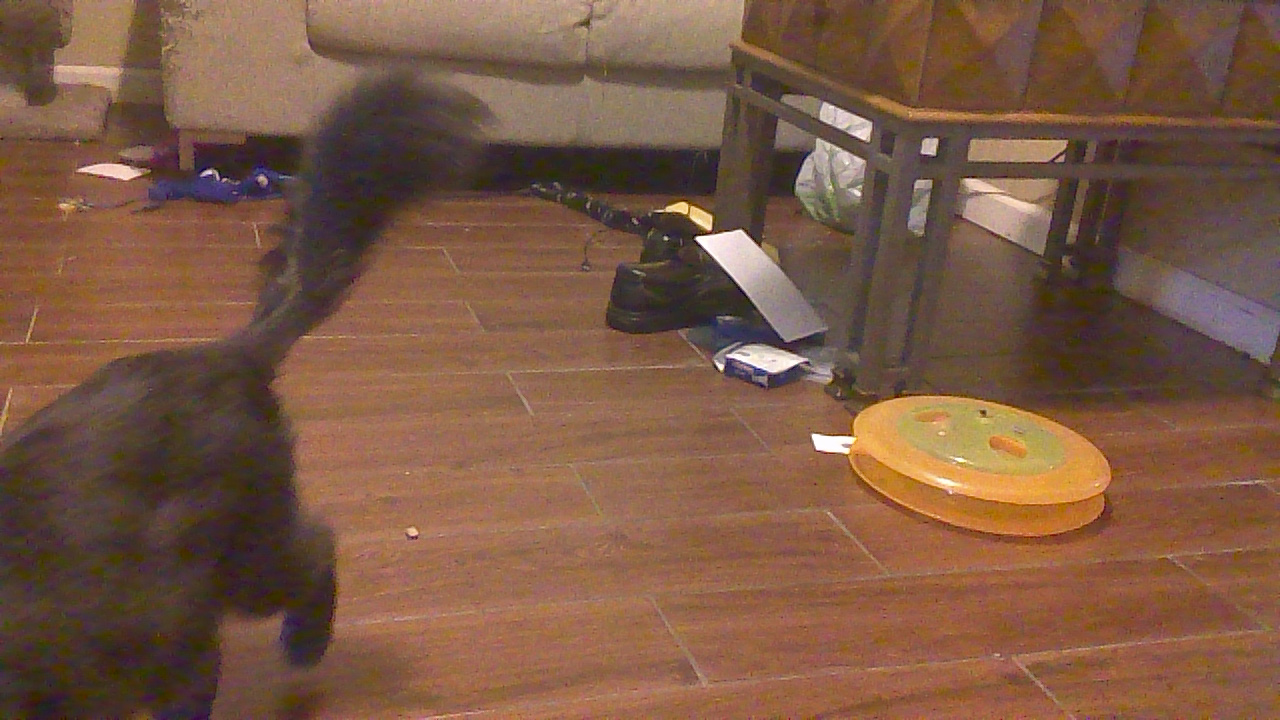cat: (13, 73, 493, 720)
